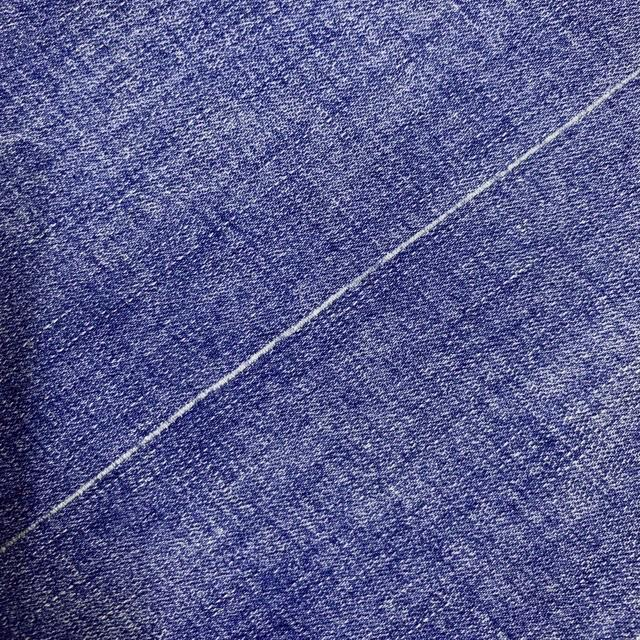Line: (0, 68, 640, 554)
